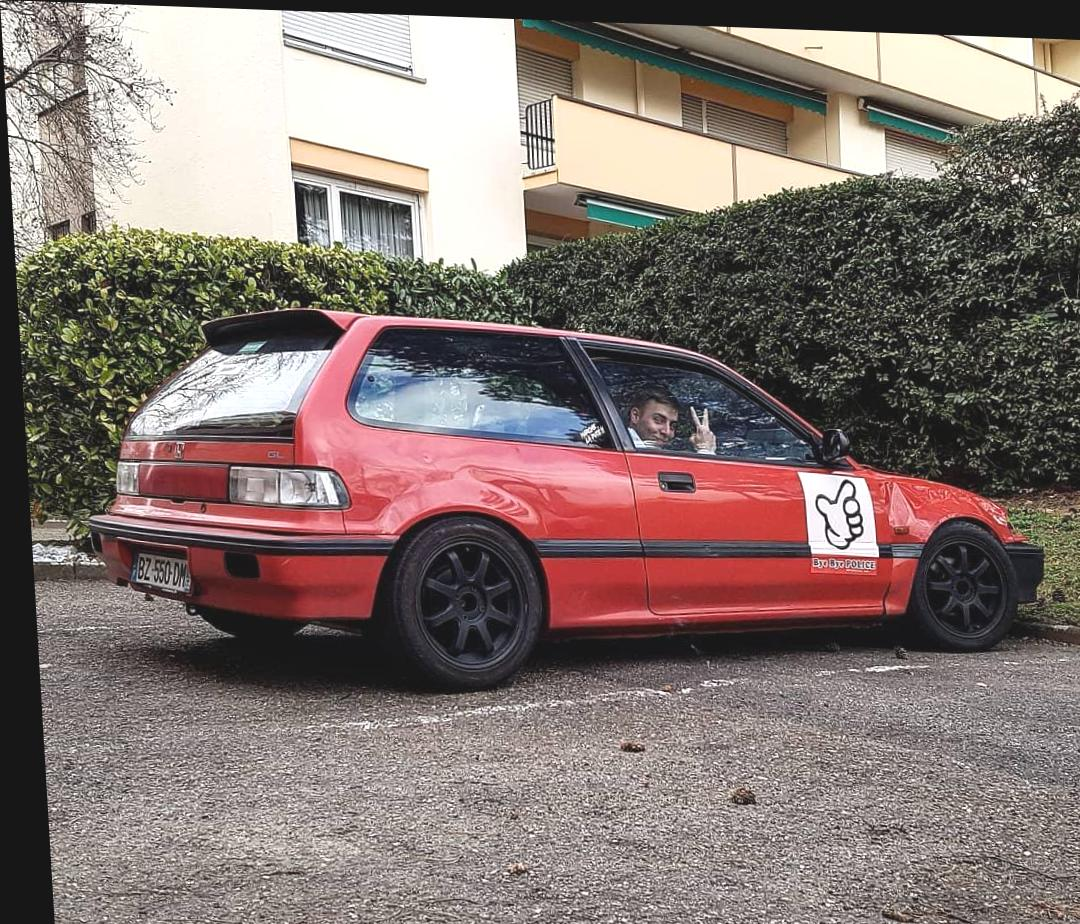License_Plate: (116, 527, 215, 619)
